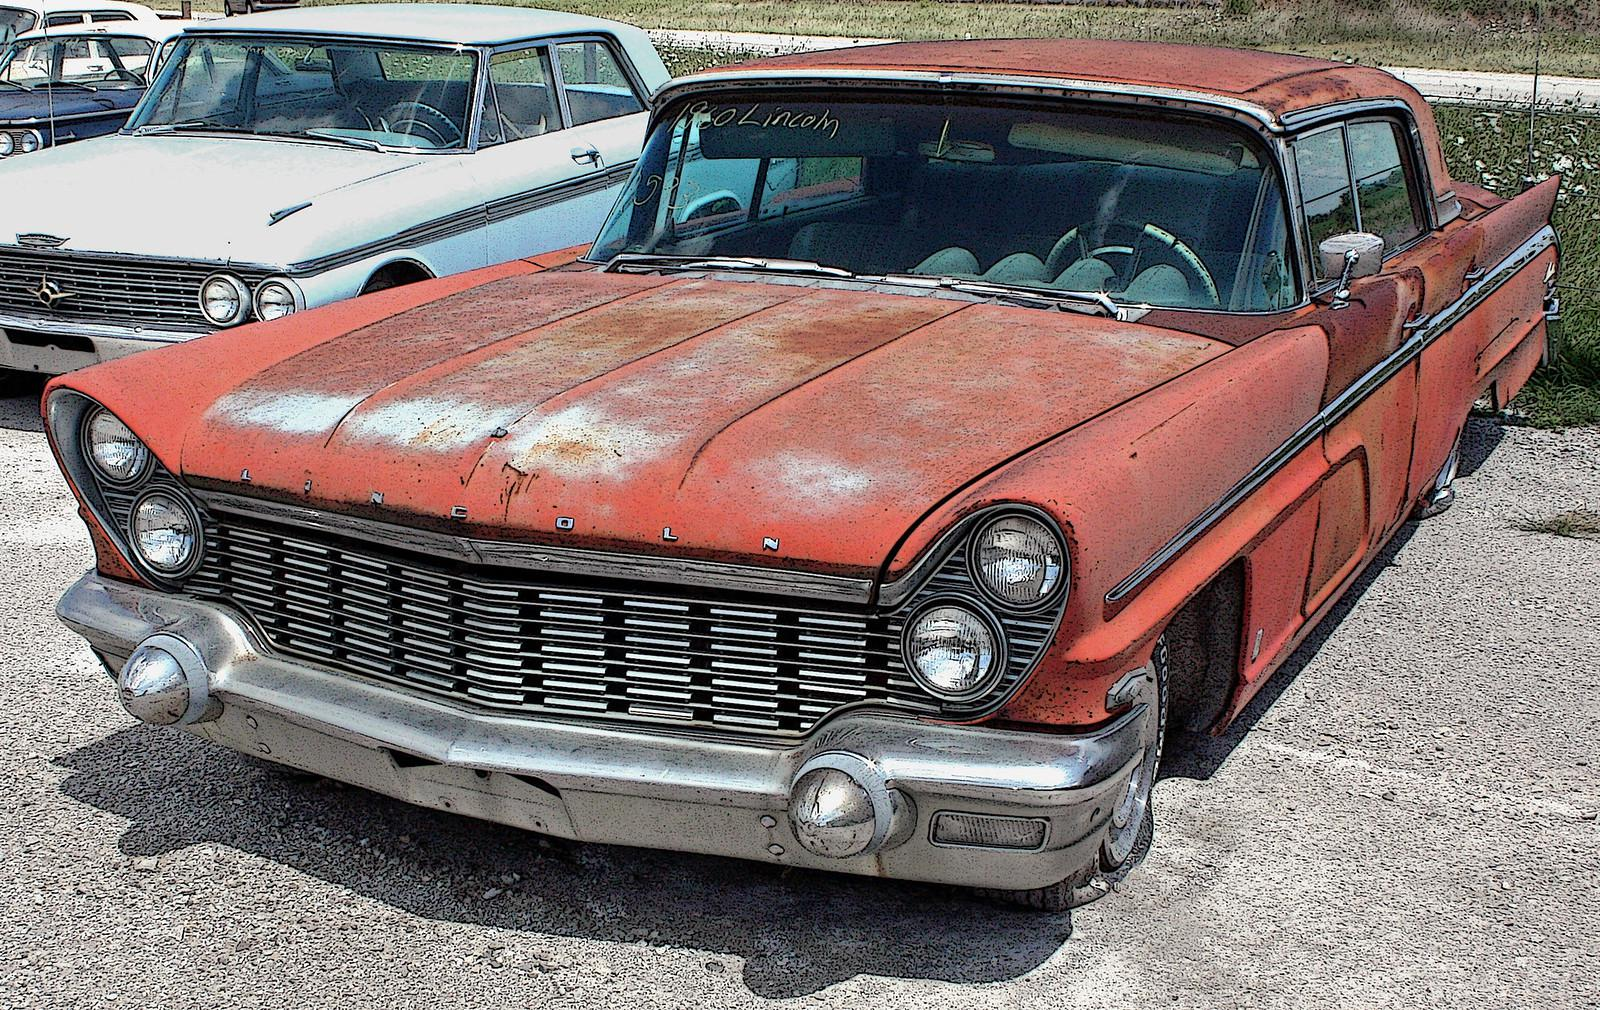bonnet-dent: (283, 209, 1091, 514)
